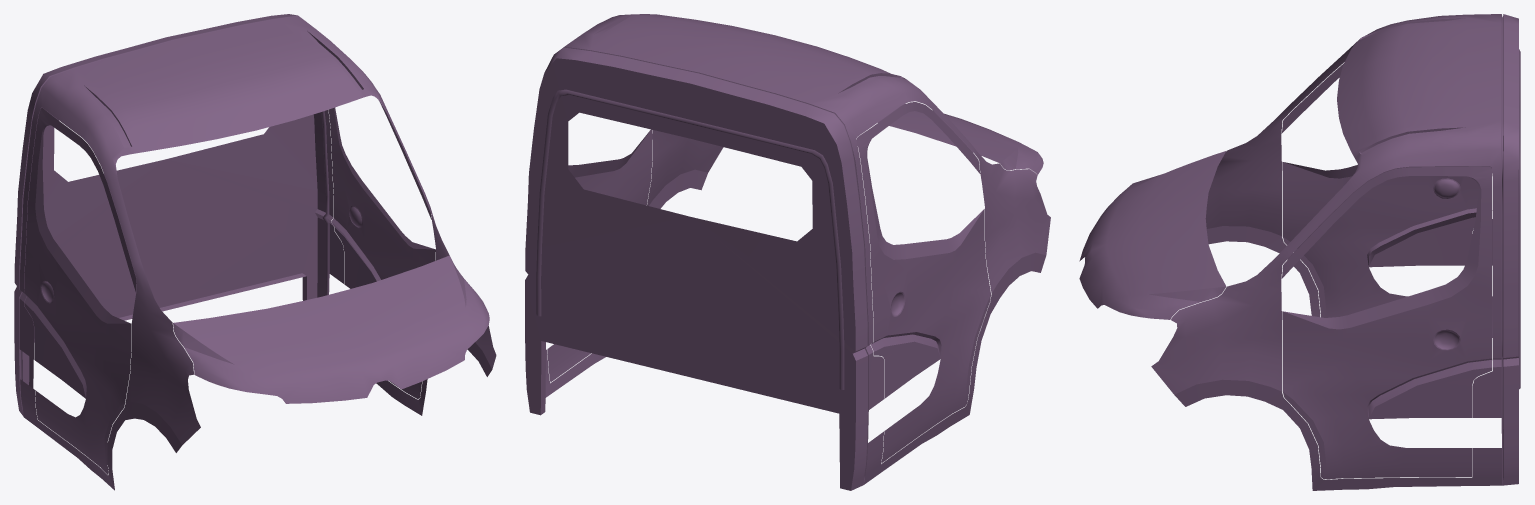
File: UV-3D_Depanneuse.fbx
3 views of the same model, side by side, from view 1: azimuth 30°, elevation 25°; view 2: azimuth 150°, elevation 25°; view 3: azimuth 270°, elevation 25° (orthographic). The views are drawn at different scales.
Visible parts, largest first — view 1: NL_TN_VH_TOWTRUCK_UV_SHD; view 2: NL_TN_VH_TOWTRUCK_UV_SHD; view 3: NL_TN_VH_TOWTRUCK_UV_SHD.
Boxes of the visible parts, x1,y1,x2,y2 form: NL_TN_VH_TOWTRUCK_UV_SHD: [14, 14, 496, 490]; NL_TN_VH_TOWTRUCK_UV_SHD: [525, 14, 1050, 490]; NL_TN_VH_TOWTRUCK_UV_SHD: [1079, 14, 1520, 490].
Size of the model in its own units: 2.12 by 2.2 by 2.54.
